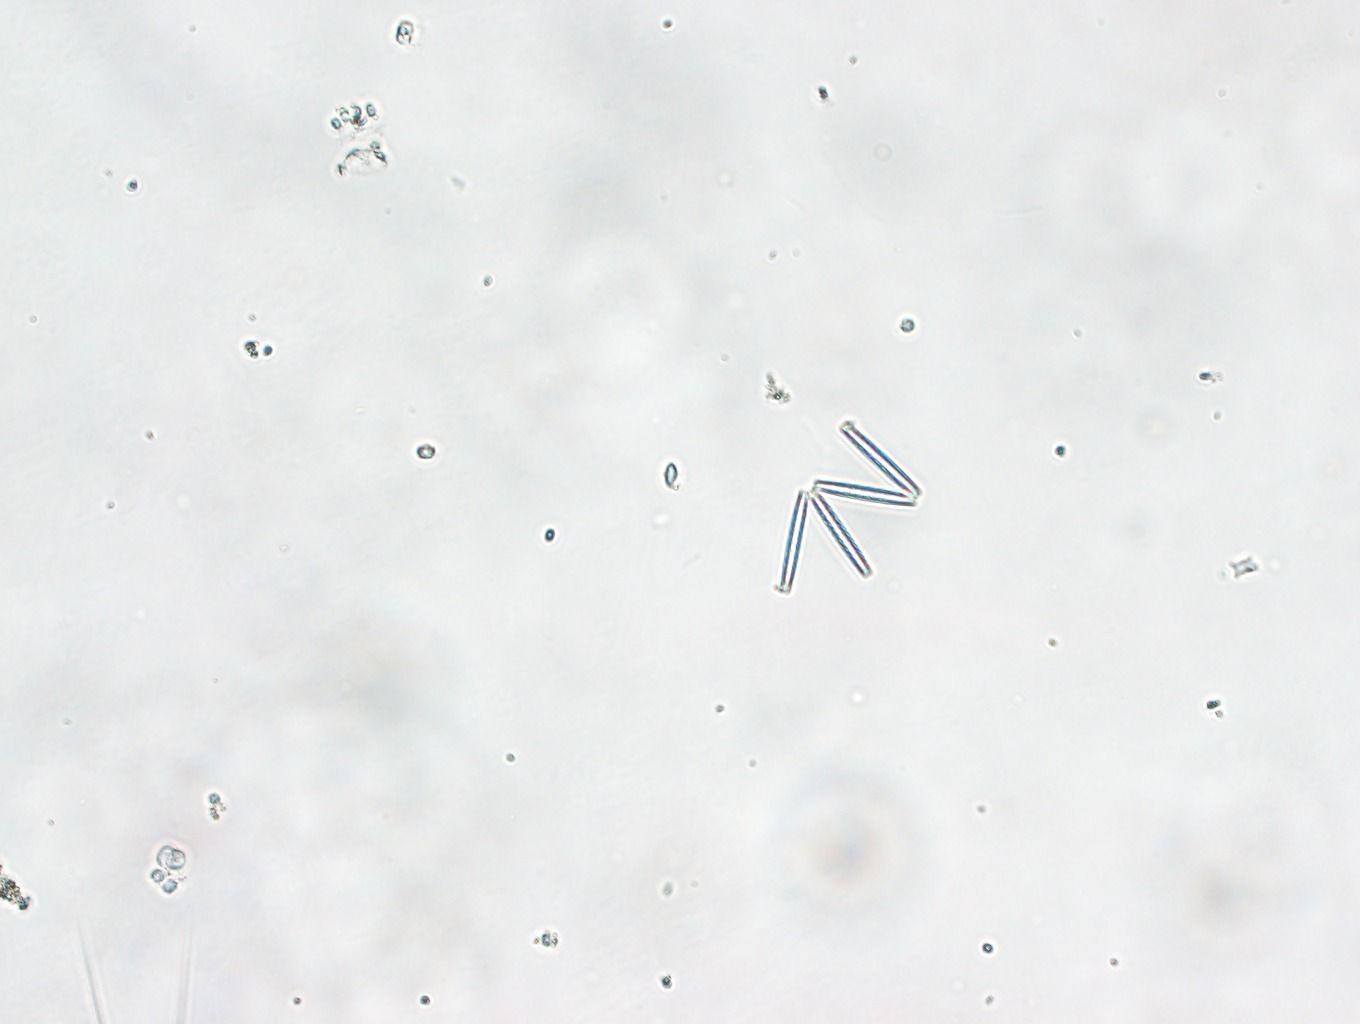thalassionema nitzschioides: (773, 425, 928, 603)
